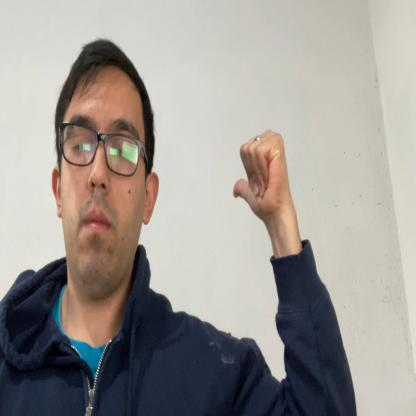A: (233, 126, 288, 224)
